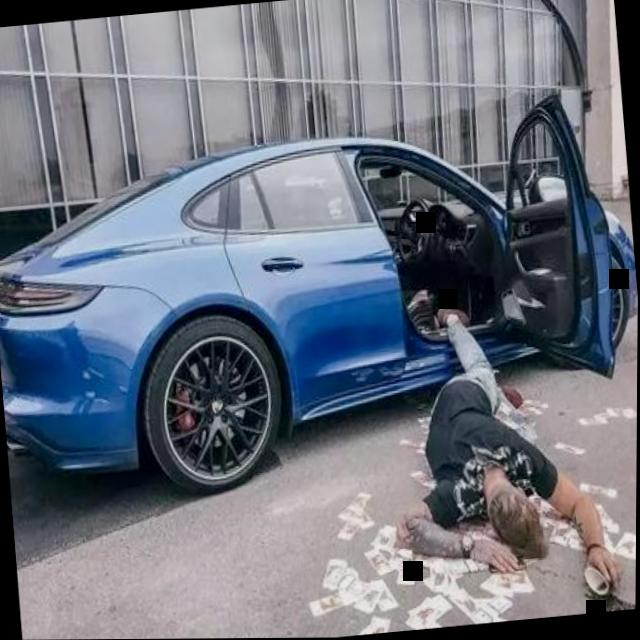Fall-Detected: (374, 268, 627, 619)
